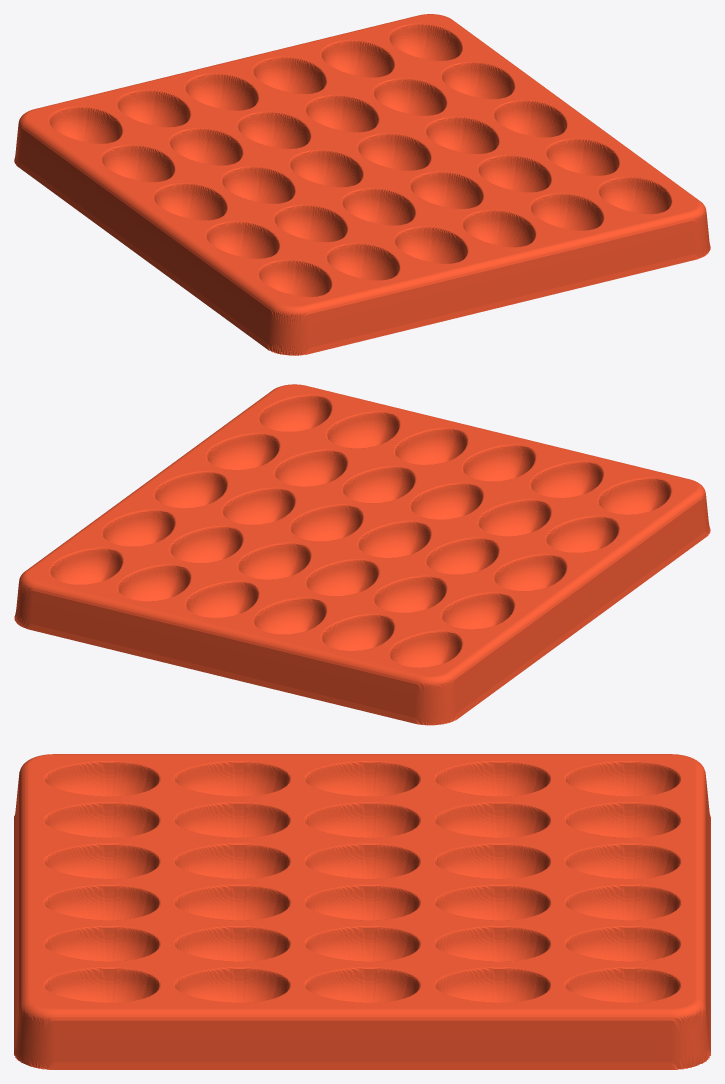
The model's file is mold.glb.
The picture shows the model from 3 angles, top to bottom: view 1: azimuth 30°, elevation 25°; view 2: azimuth 150°, elevation 25°; view 3: azimuth 270°, elevation 25°; orthographic projection. The views are drawn at different scales.
Parts seen in each view (by area): view 1: geometry_0; view 2: geometry_0; view 3: geometry_0.
Boxes of the visible parts, bbox=[...] form: geometry_0: bbox=[14, 14, 710, 355]; geometry_0: bbox=[14, 384, 710, 725]; geometry_0: bbox=[14, 754, 710, 1069].
Size of the model in its own units: 0.1434 by 0.0136 by 0.1581.
